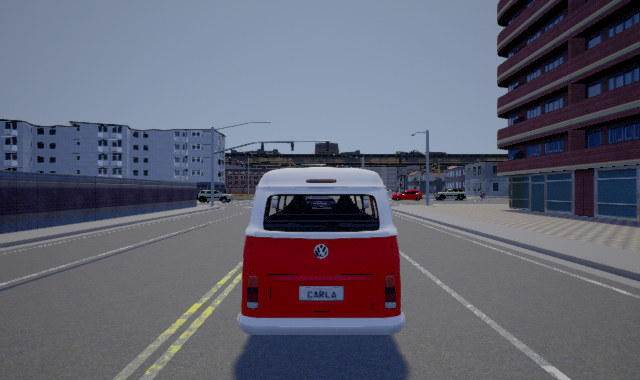vehicle: (239, 166, 401, 335), (199, 189, 233, 202), (434, 188, 466, 201), (392, 188, 424, 200)
